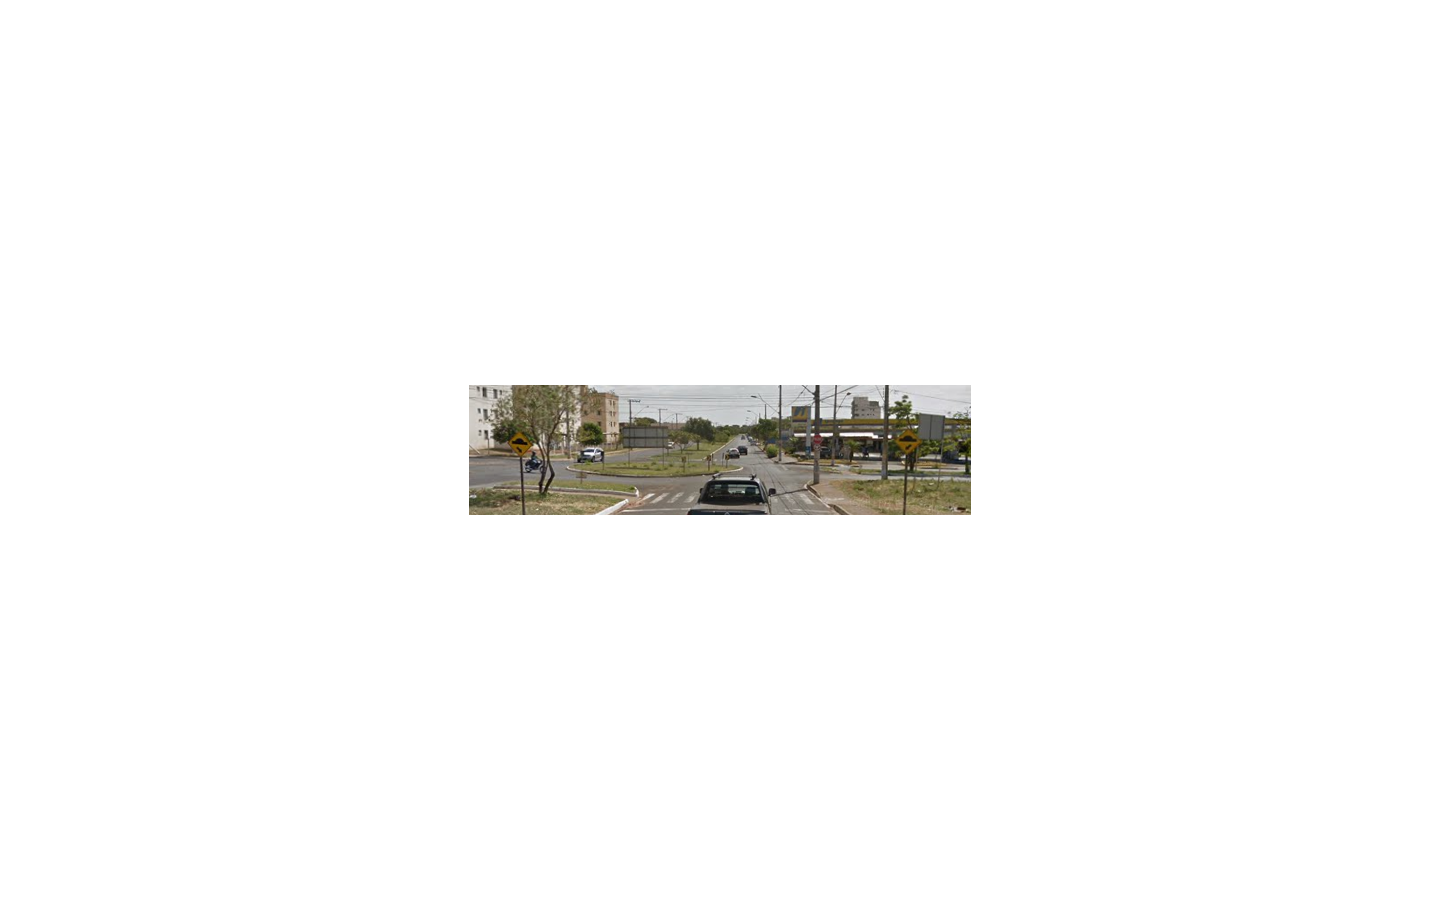lomb: (894, 428, 921, 455), (507, 431, 532, 457)
